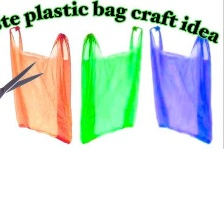plastic_bag: (146, 24, 217, 148), (4, 23, 74, 145), (78, 23, 146, 146)
